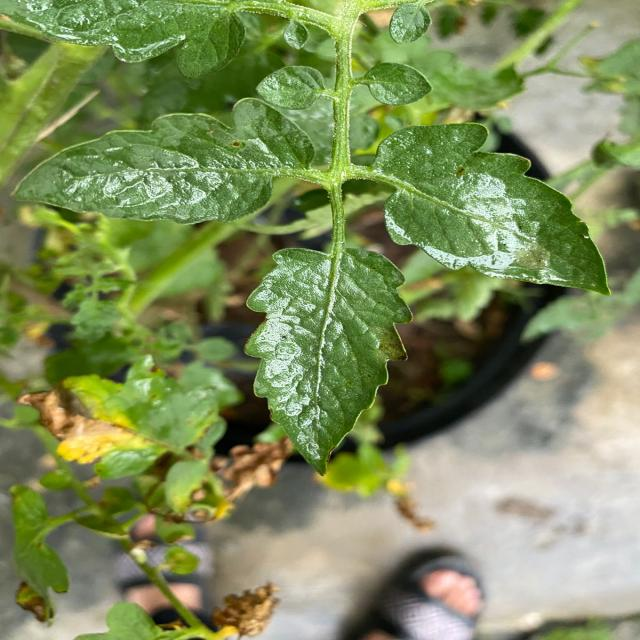Tomato_Healthy: (233, 244, 421, 478), (9, 94, 309, 231), (370, 120, 628, 232)
